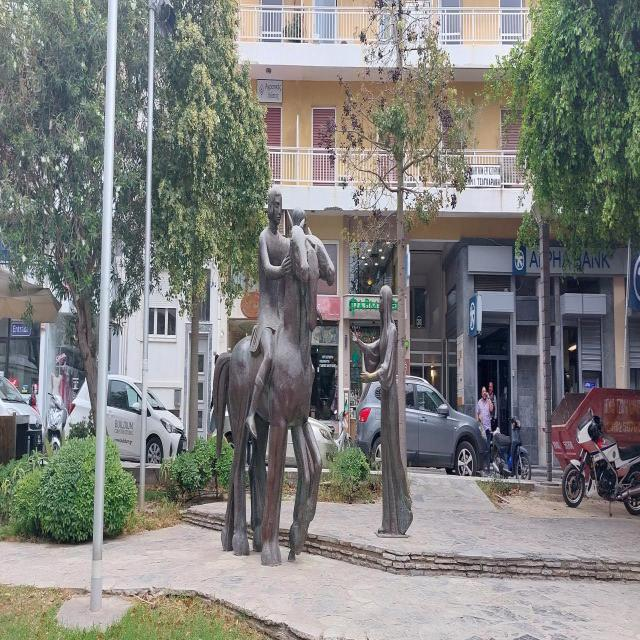Aretousa: (214, 188, 414, 568)
